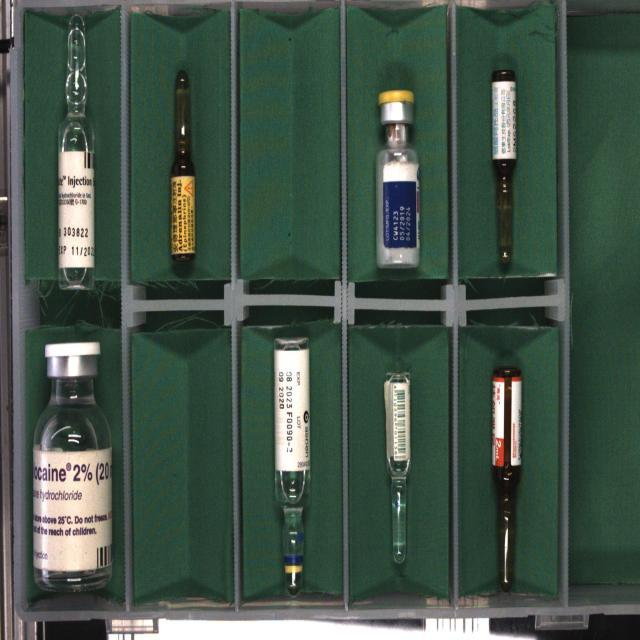Vials: (32, 341, 113, 591), (376, 90, 419, 268)
